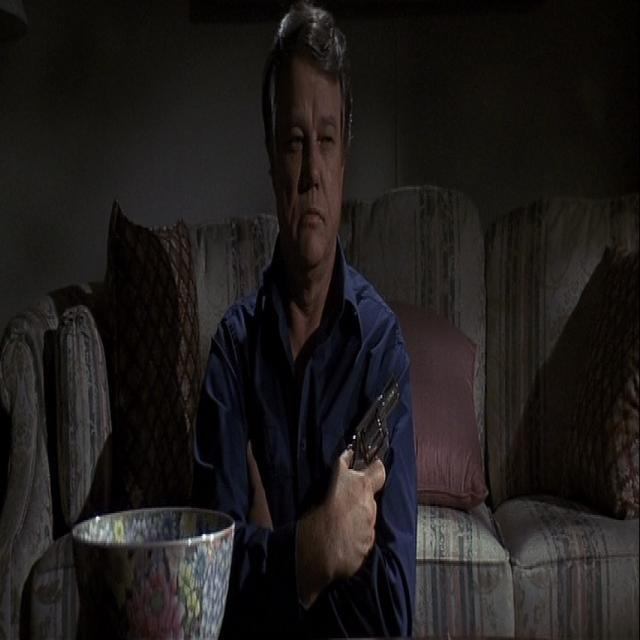gun-knife-thesis - v11 Yolov5 augmented: (330, 381, 402, 575)
